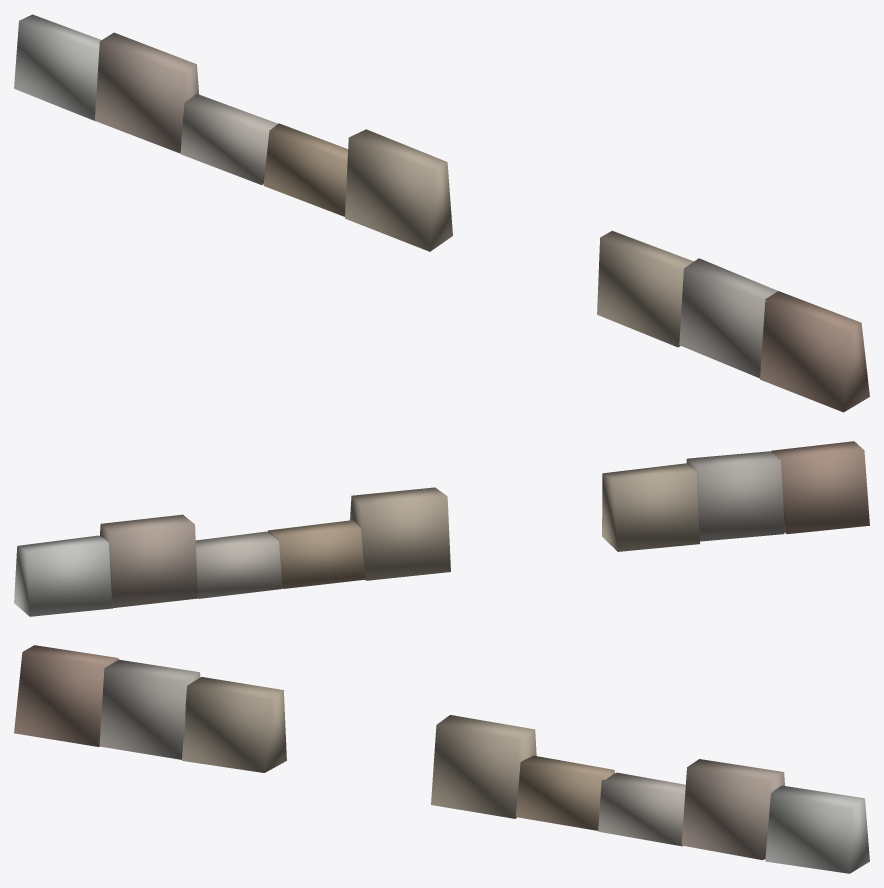
File: farm_16_25_far.glb
The picture shows the model from 3 angles, top to bottom: view 1: azimuth 90°, elevation 25°; view 2: azimuth 150°, elevation 25°; view 3: azimuth 270°, elevation 25°; orthographic projection. The views are drawn at different scales.
Visible parts, largest first — view 1: geometry_0; view 2: geometry_0; view 3: geometry_0.
Boxes of the visible parts, box(x1,y1,x2,y2) form: geometry_0: box(14, 14, 869, 412); geometry_0: box(14, 441, 869, 616); geometry_0: box(14, 645, 869, 873).
Size of the model in its own units: 9.05 by 2.71 by 13.23.
